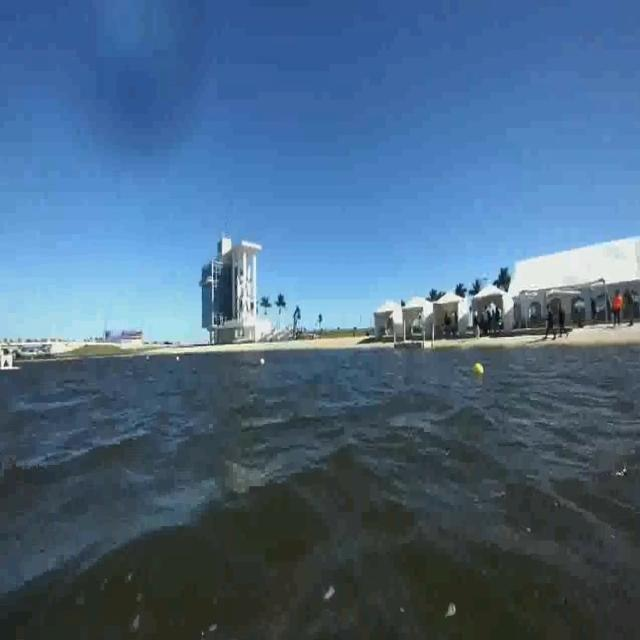yellow-buoy: (472, 360, 483, 376)
